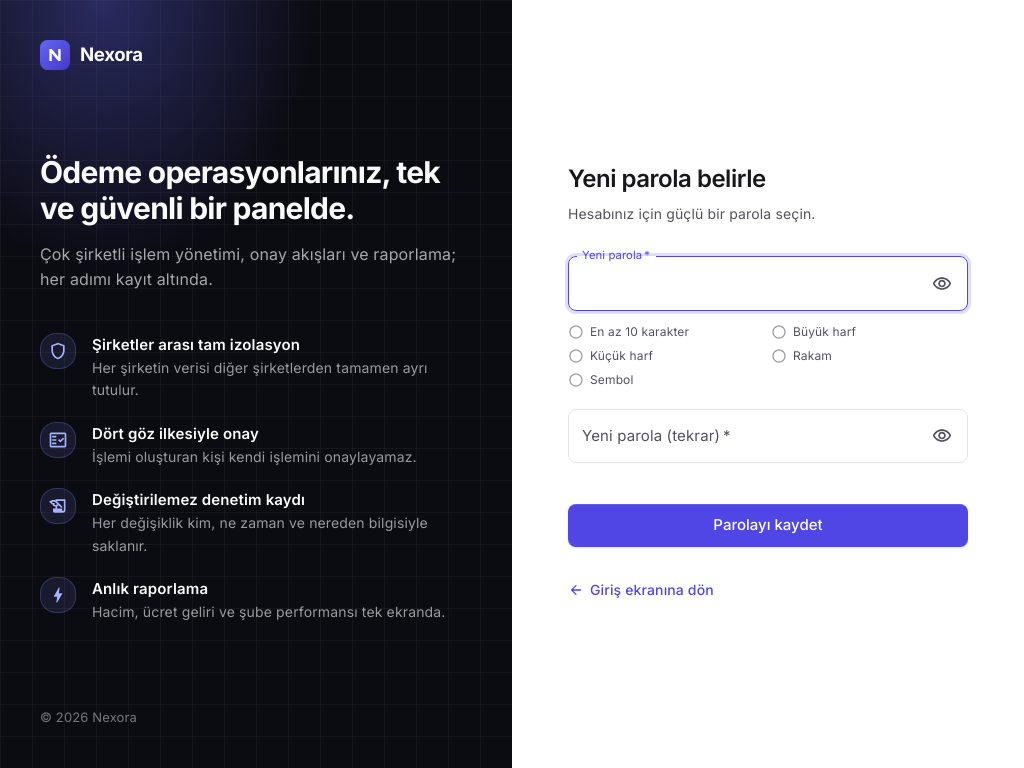
Test: reset password › offers a new link when the token is invalid or expired
Step 1. Type "Brand#New2026x" into the password field labelled "Yeni parola *" → [744, 284], box [568, 256, 919, 311]
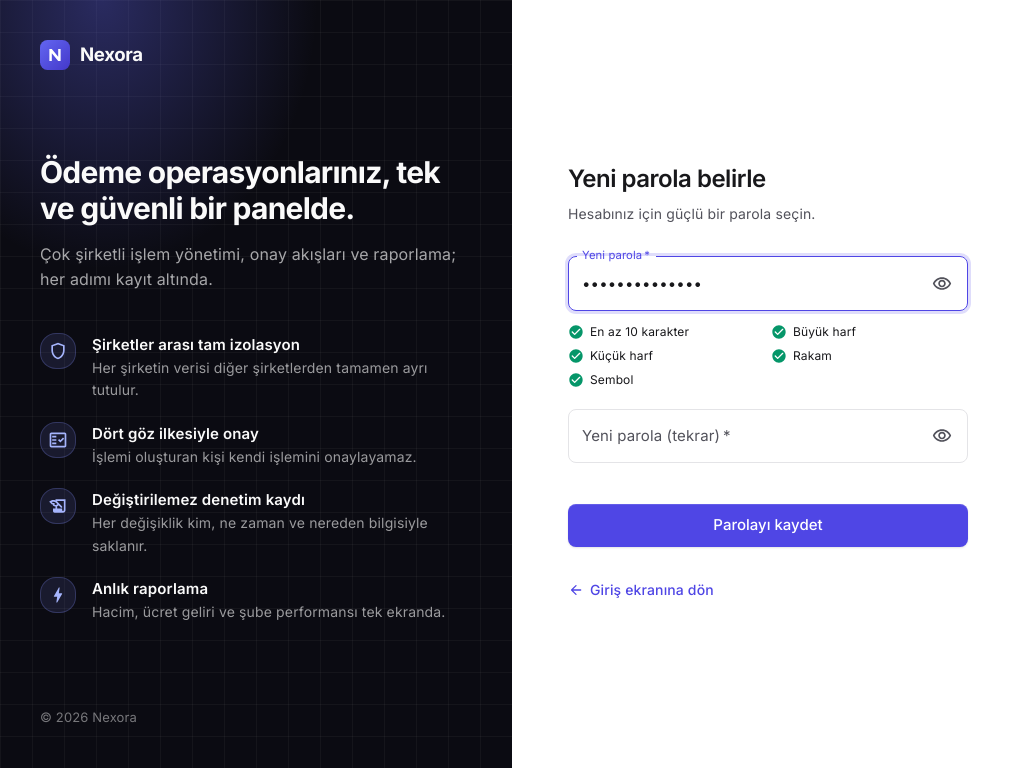
Step 2. Type "Brand#New2026x" into the password field labelled "Yeni parola (tekrar) *" → [744, 436], box [568, 409, 919, 464]
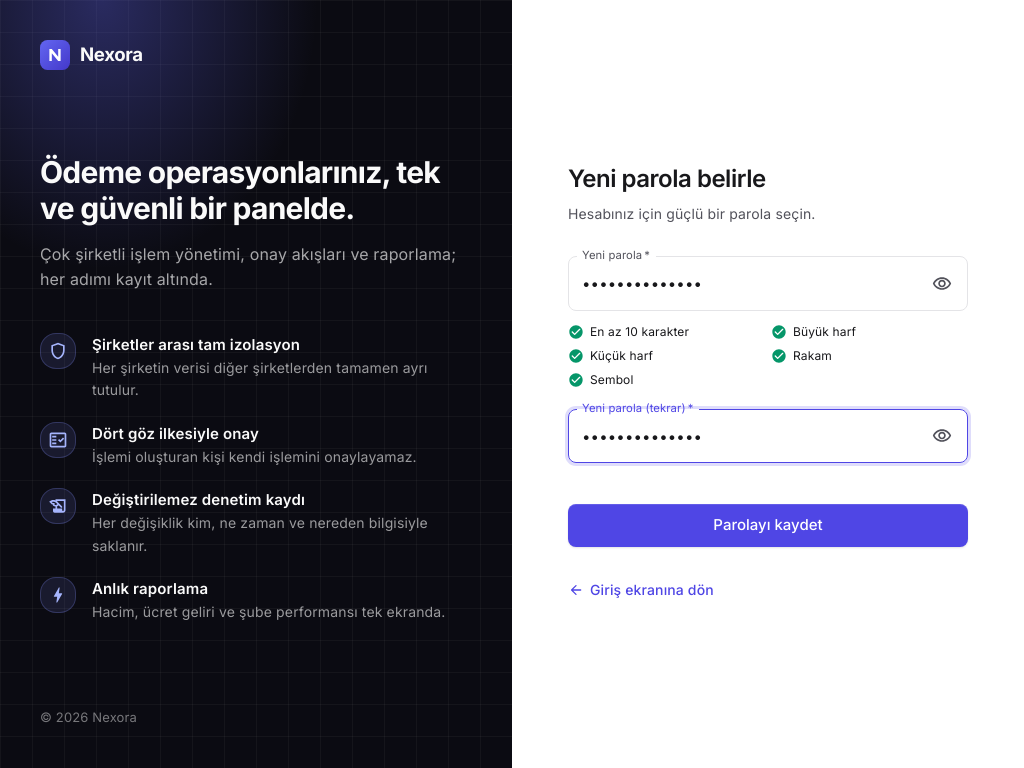
Step 3. Click the button "Parolayı kaydet" → [768, 526], box [568, 504, 968, 547]
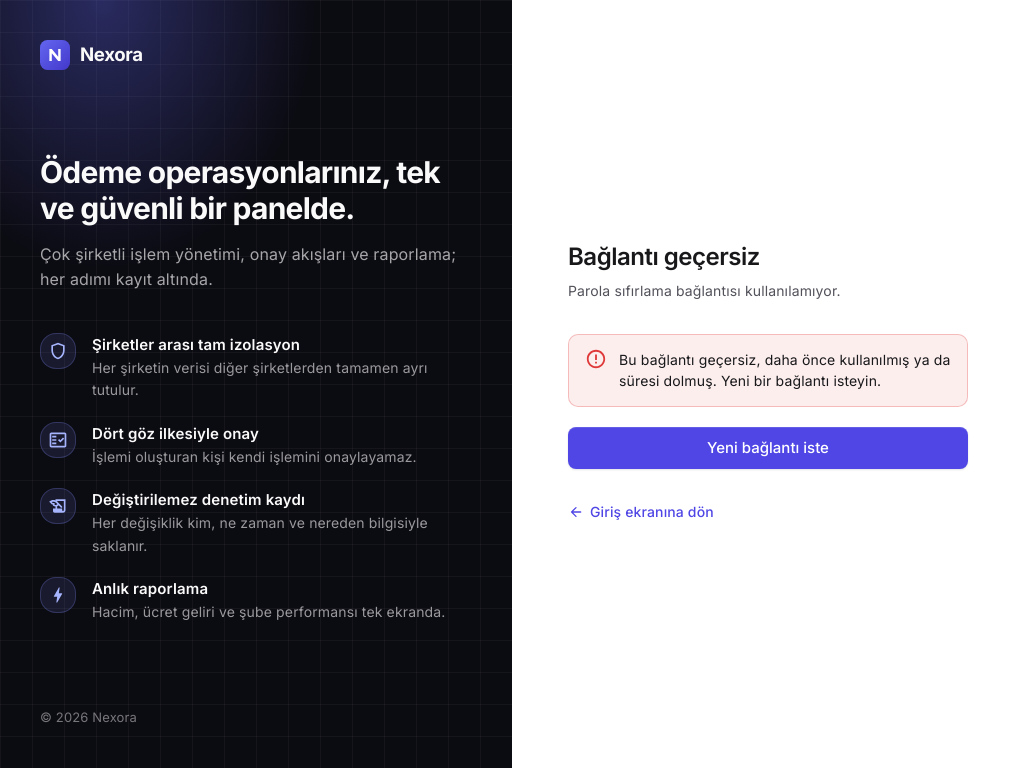
Now the heading "Bağlantı geçersiz" is shown, box [568, 242, 760, 271]
